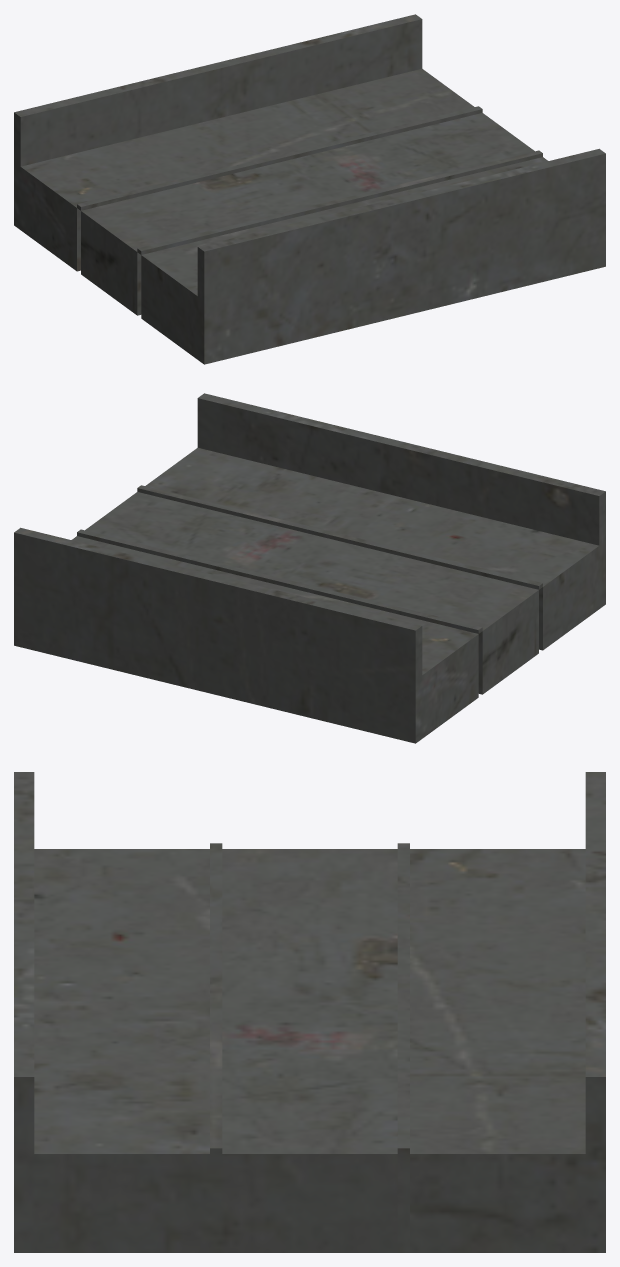
The model's file is Textured Level.fbx.
3 views of the same model, one above another, from view 1: azimuth 30°, elevation 25°; view 2: azimuth 150°, elevation 25°; view 3: azimuth 270°, elevation 25° (orthographic). The views are drawn at different scales.
Parts seen in each view (by area): view 1: Cube.001; view 2: Cube.001; view 3: Cube.001.
Part boxes in pixels (bbox=[...]): Cube.001: bbox=[14, 14, 605, 364]; Cube.001: bbox=[14, 393, 605, 743]; Cube.001: bbox=[14, 772, 605, 1252].
Bounding box in the file's own units: 1324 × 356 × 1086.
